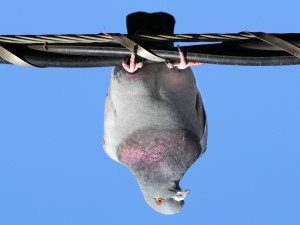pigeon: (101, 11, 210, 216)
